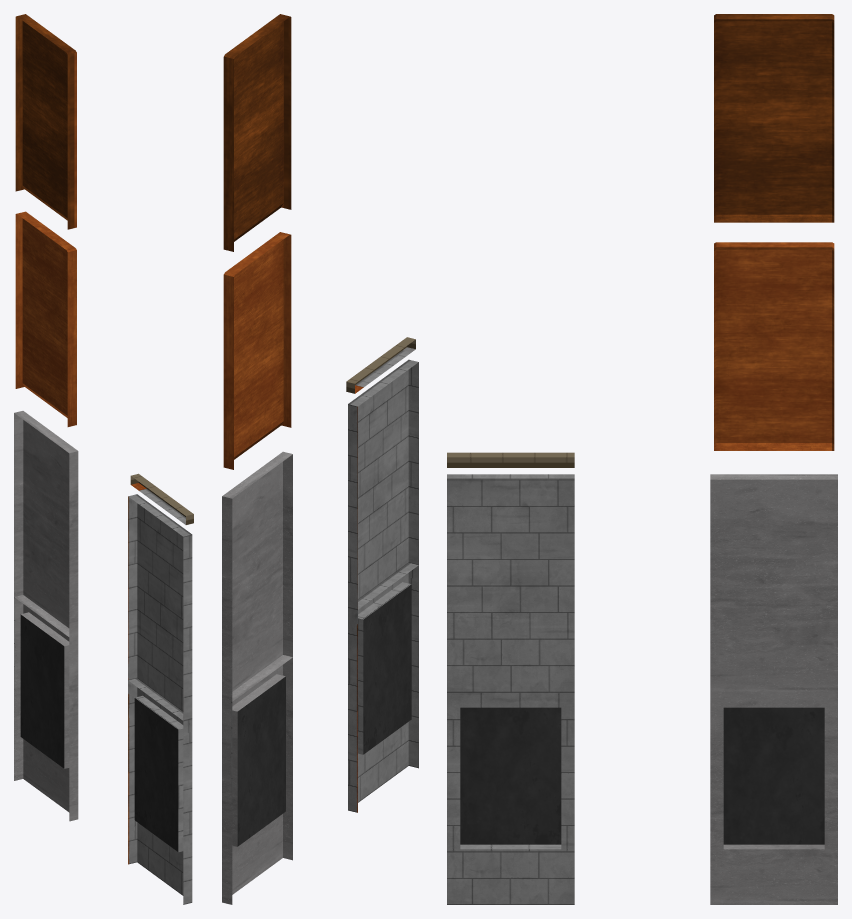
Rendered from BuildingBlocks.fbx.
3 renders of one model, left to right at view 1: azimuth 30°, elevation 25°; view 2: azimuth 150°, elevation 25°; view 3: azimuth 270°, elevation 25°, orthographic. The views are drawn at different scales.
Visible parts, largest first — view 1: WallRoughFull, WallTileFull, DoorDark, DoorLight, WallTileWindow, WallRoughWindow, WallRoughWindow.001, WallTileWindow.002, Rim; view 2: WallRoughFull, WallTileFull, DoorLight, DoorDark, WallTileWindow, WallRoughWindow, WallRoughWindow.001, WallTileWindow.002, Rim; view 3: WallRoughFull, WallTileFull, DoorDark, DoorLight, WallRoughWindow.001, WallTileWindow.002, WallRoughWindow, WallTileWindow, Rim.
Boxes of the visible parts, box(x1,y1,x2,y2) form: WallRoughFull: box(14, 411, 78, 637); WallTileFull: box(128, 494, 192, 720); DoorDark: box(15, 14, 76, 229); DoorLight: box(15, 211, 76, 426); WallTileWindow: box(128, 678, 192, 904); WallRoughWindow: box(14, 595, 78, 821); WallRoughWindow.001: box(20, 614, 64, 768); WallTileWindow.002: box(134, 698, 178, 851); Rim: box(130, 473, 193, 524); WallRoughFull: box(222, 451, 292, 701); WallTileFull: box(348, 359, 418, 609); DoorLight: box(223, 232, 291, 469); DoorDark: box(223, 14, 291, 251); WallTileWindow: box(348, 563, 418, 812); WallRoughWindow: box(222, 655, 292, 904); WallRoughWindow.001: box(237, 676, 285, 846); WallTileWindow.002: box(363, 584, 411, 754); Rim: box(346, 337, 415, 393); WallRoughFull: box(710, 474, 837, 692); WallTileFull: box(447, 474, 574, 692); DoorDark: box(714, 14, 834, 222); DoorLight: box(714, 242, 834, 450); WallRoughWindow.001: box(723, 707, 824, 844); WallTileWindow.002: box(460, 707, 561, 844); WallRoughWindow: box(710, 692, 837, 904); WallTileWindow: box(447, 692, 574, 904); Rim: box(447, 452, 574, 467).
Size of the model in its own units: 13.99 by 958 by 383.
